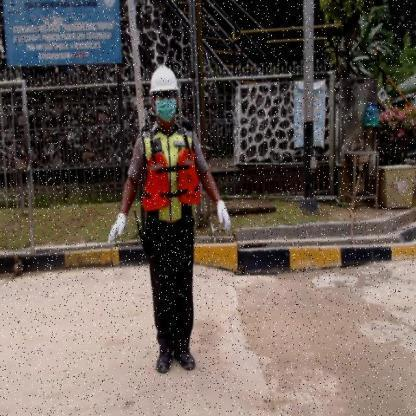boots: (173, 350, 196, 374), (155, 350, 173, 374)
gloves: (107, 211, 128, 245), (214, 198, 233, 231)
goggles: (155, 92, 177, 100)
helmet: (150, 63, 178, 90)
mask: (155, 100, 177, 121)
vest: (142, 148, 201, 211)
